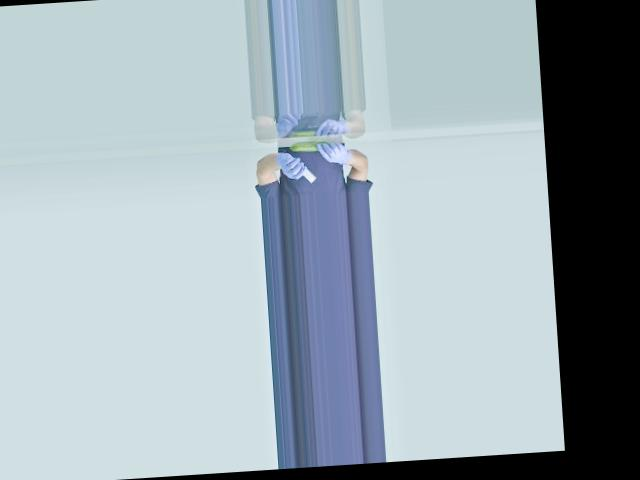cucumber: (289, 140, 329, 152)
